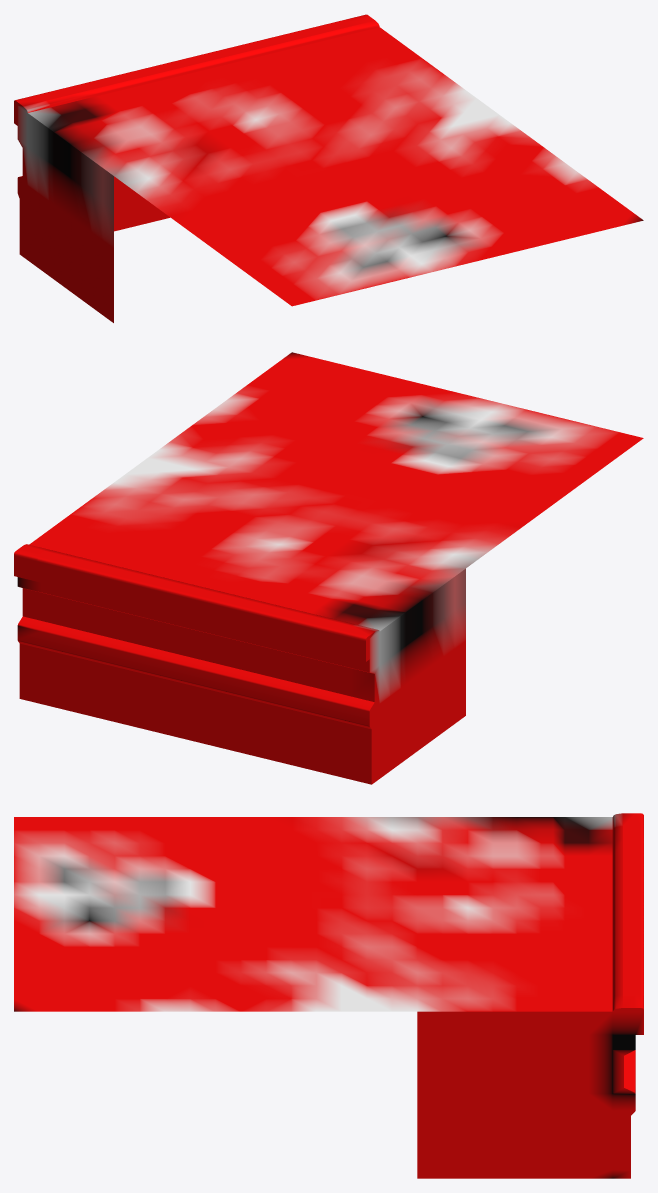
The picture shows the model from 3 angles, top to bottom: view 1: azimuth 30°, elevation 25°; view 2: azimuth 150°, elevation 25°; view 3: azimuth 270°, elevation 25°; orthographic projection. The views are drawn at different scales.
Visible parts, largest first — view 1: SM_Floor_Platform_01_LOD0; view 2: SM_Floor_Platform_01_LOD0; view 3: SM_Floor_Platform_01_LOD0.
Part boxes in pixels (<box>): SM_Floor_Platform_01_LOD0: <box>14,14,643,322</box>; SM_Floor_Platform_01_LOD0: <box>14,352,643,784</box>; SM_Floor_Platform_01_LOD0: <box>14,813,643,1178</box>.
Bounding box in the file's own units: 500 × 684 × 205.
